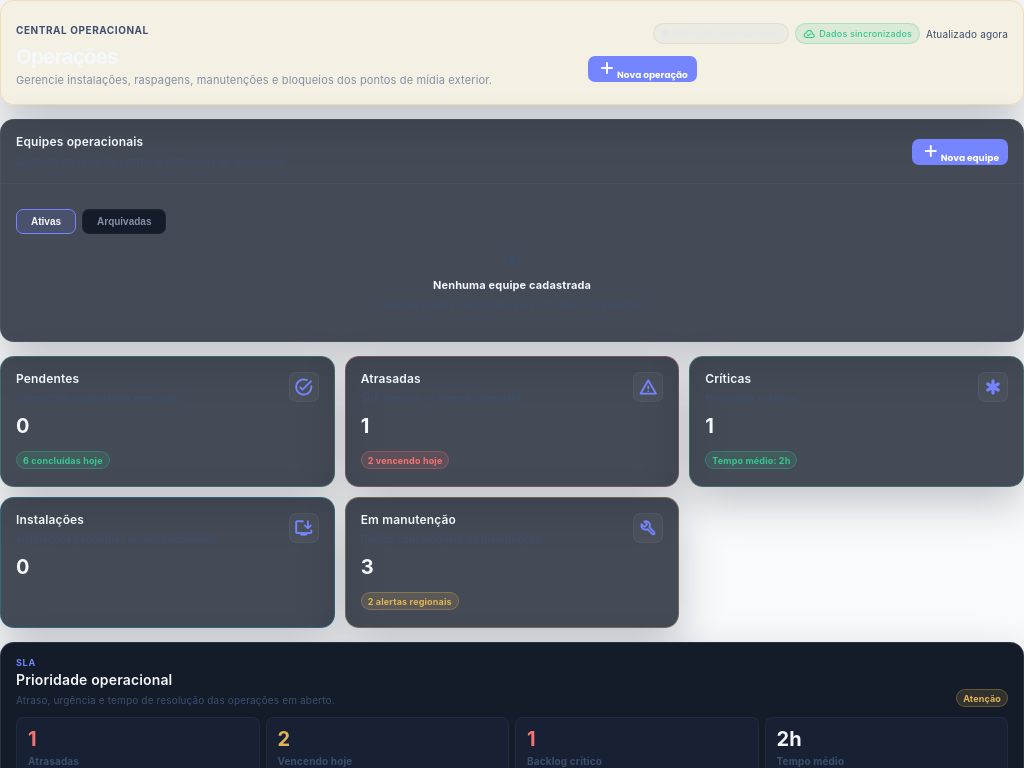
Scenario: OperationsPage smoke › Tratamento de erros amigáveis › limpa o erro de criação ao fechar e reabrir o modal
Later steps or results of the test are not shown.
Click the button "Nova operação" at (642, 69), box [588,56,697,82]
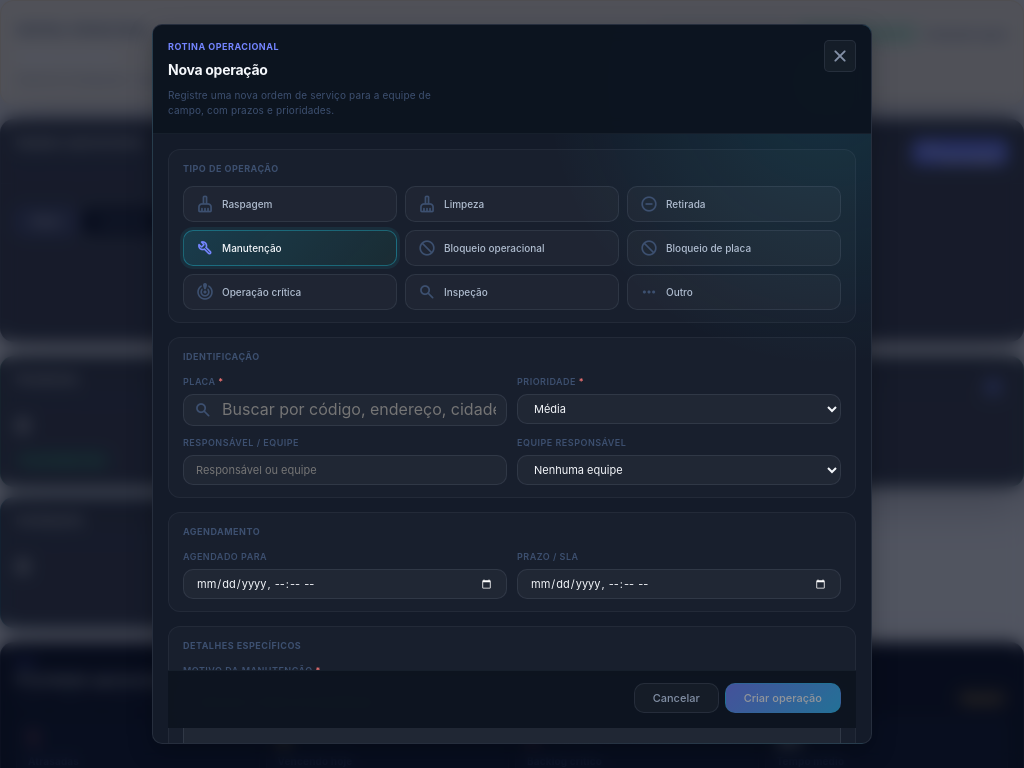
Click the radio button labelled "Raspagem" at (290, 204), box [183,186,397,222]
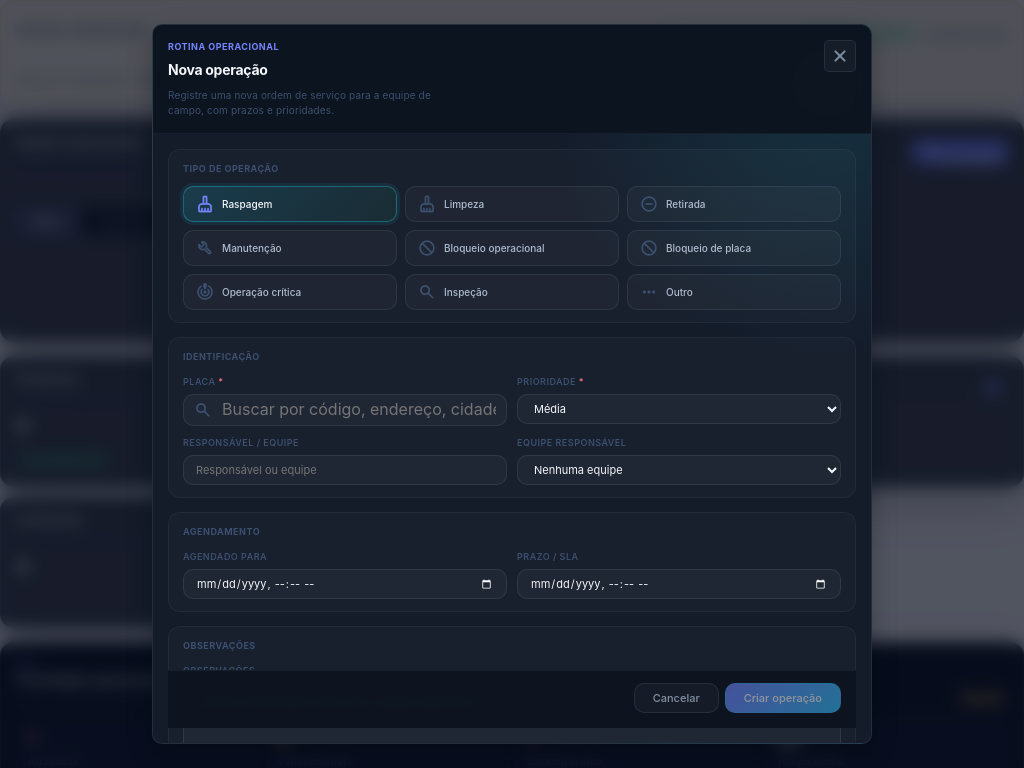
Focus the dropdown labelled "Placa *" at (359, 410), box [212,395,506,425]
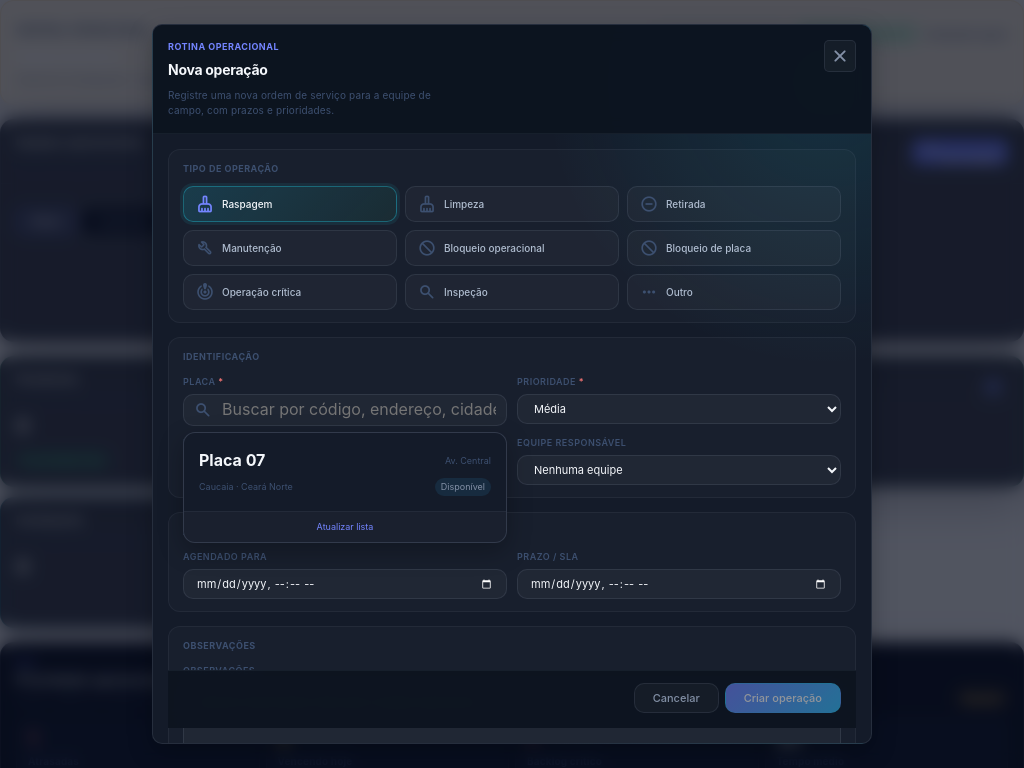
Click the button "Placa 07 Av. Central Caucaia · Ceará Norte Disponível" at (222, 460), box [189,438,501,506]
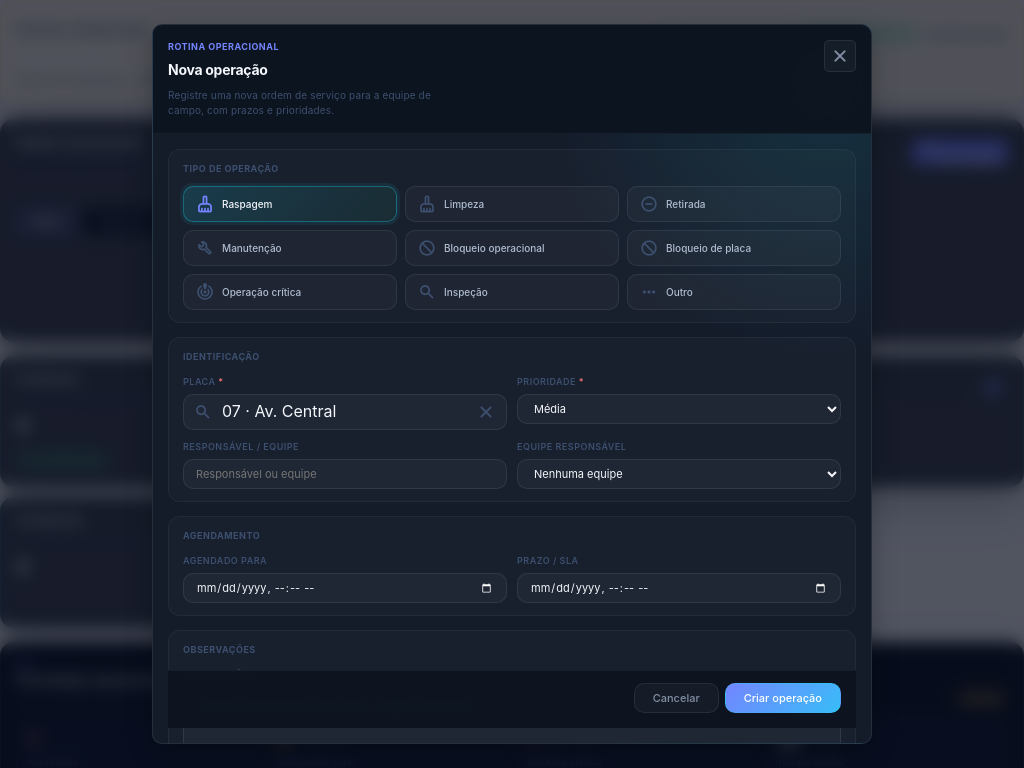
Click the button "Criar operação" at (783, 698), box [725,683,841,713]
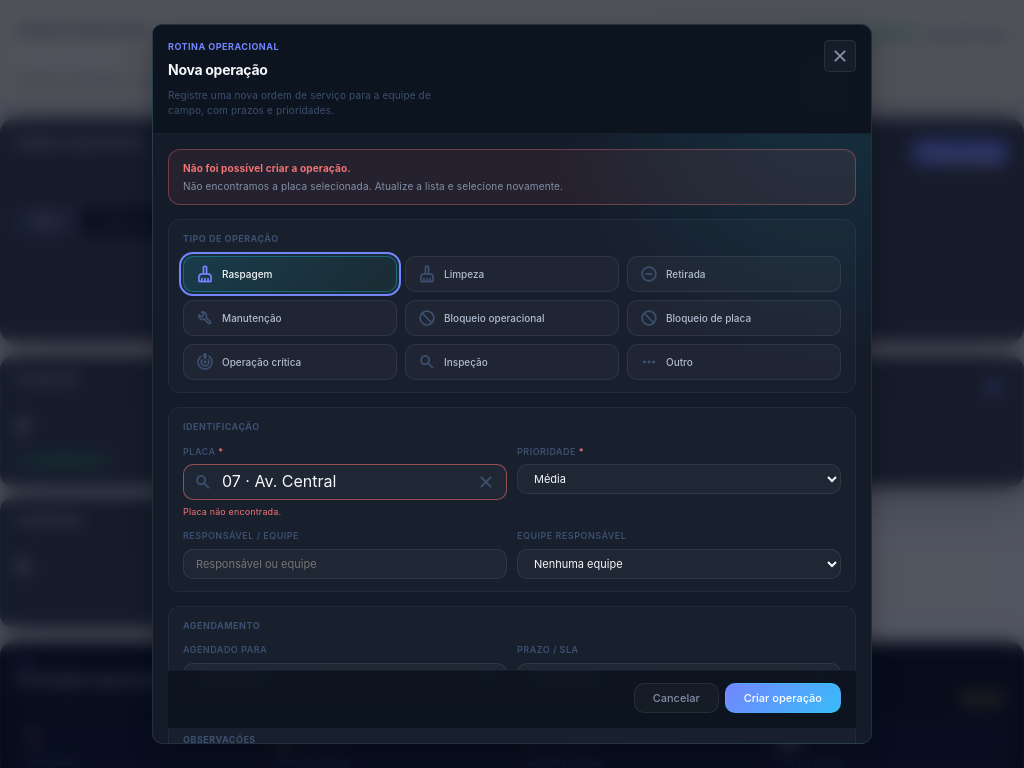
Expected: the message with test id "operation-form-error-banner" is shown, [168,149,856,205]
Click the button "Cancelar" at (676, 698), box [634,683,719,713]
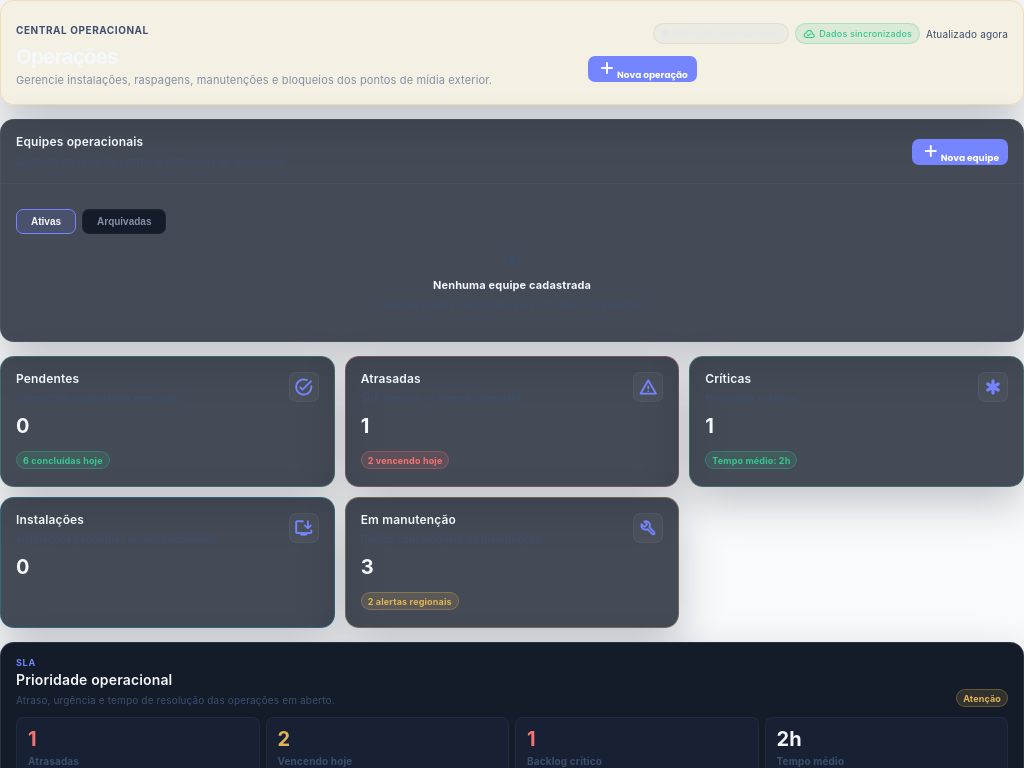
Expected: the dialog with test id "operation-form-modal-redesigned" is gone
